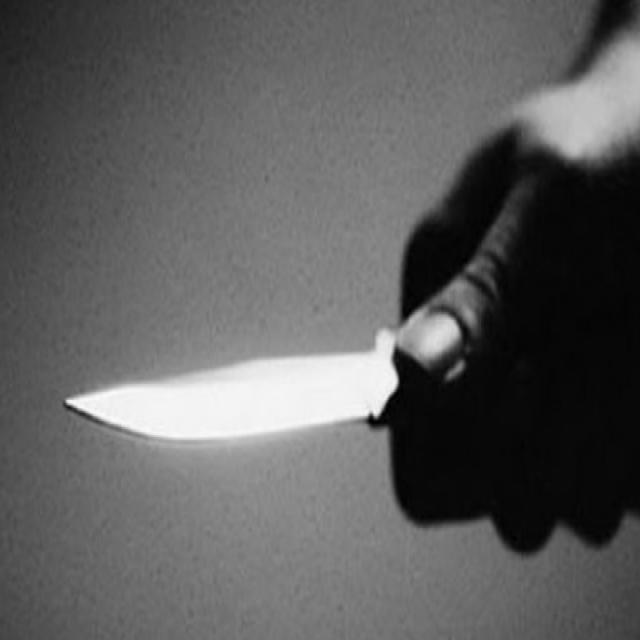knife: (52, 326, 400, 448)
